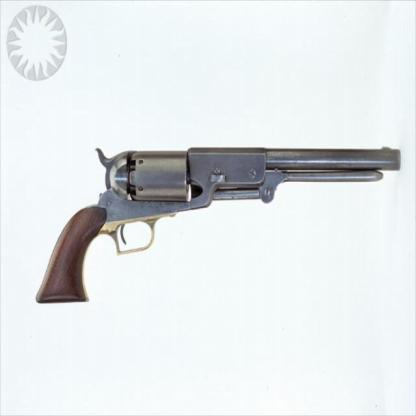weapon: (34, 143, 403, 306)
